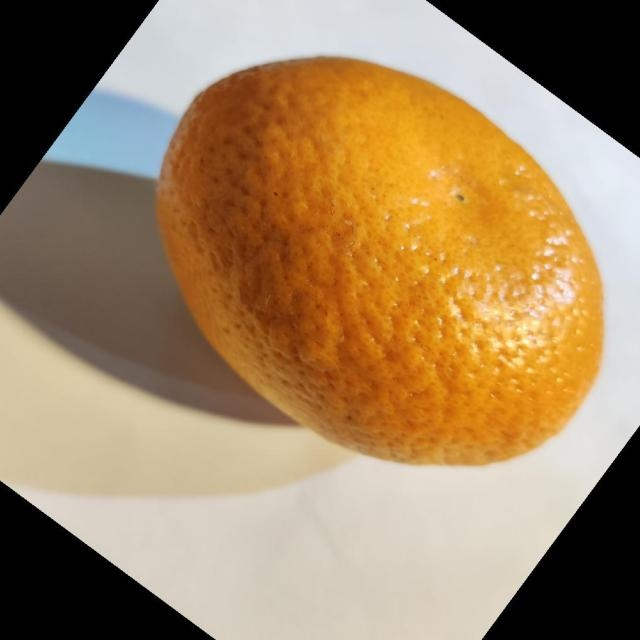agrume: (154, 54, 605, 467)
